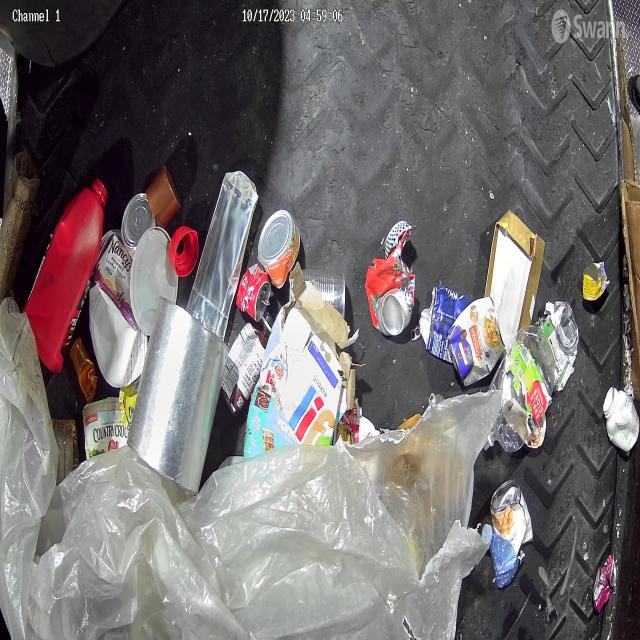can: (368, 223, 422, 339), (447, 293, 506, 390), (536, 297, 579, 395), (256, 208, 300, 290), (489, 478, 534, 557), (289, 266, 346, 320), (235, 264, 272, 324), (592, 551, 617, 613)
non_white_jug: (29, 180, 108, 377)
